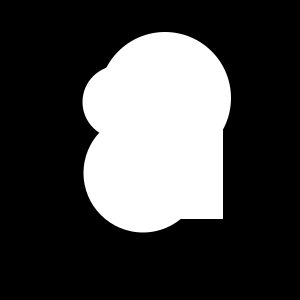circle: (120, 116, 223, 219)
rectangle: (99, 32, 231, 164), (84, 113, 202, 232), (82, 66, 156, 138), (134, 94, 144, 104)
